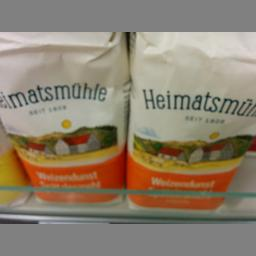flour: (124, 32, 254, 209), (0, 31, 128, 202)
